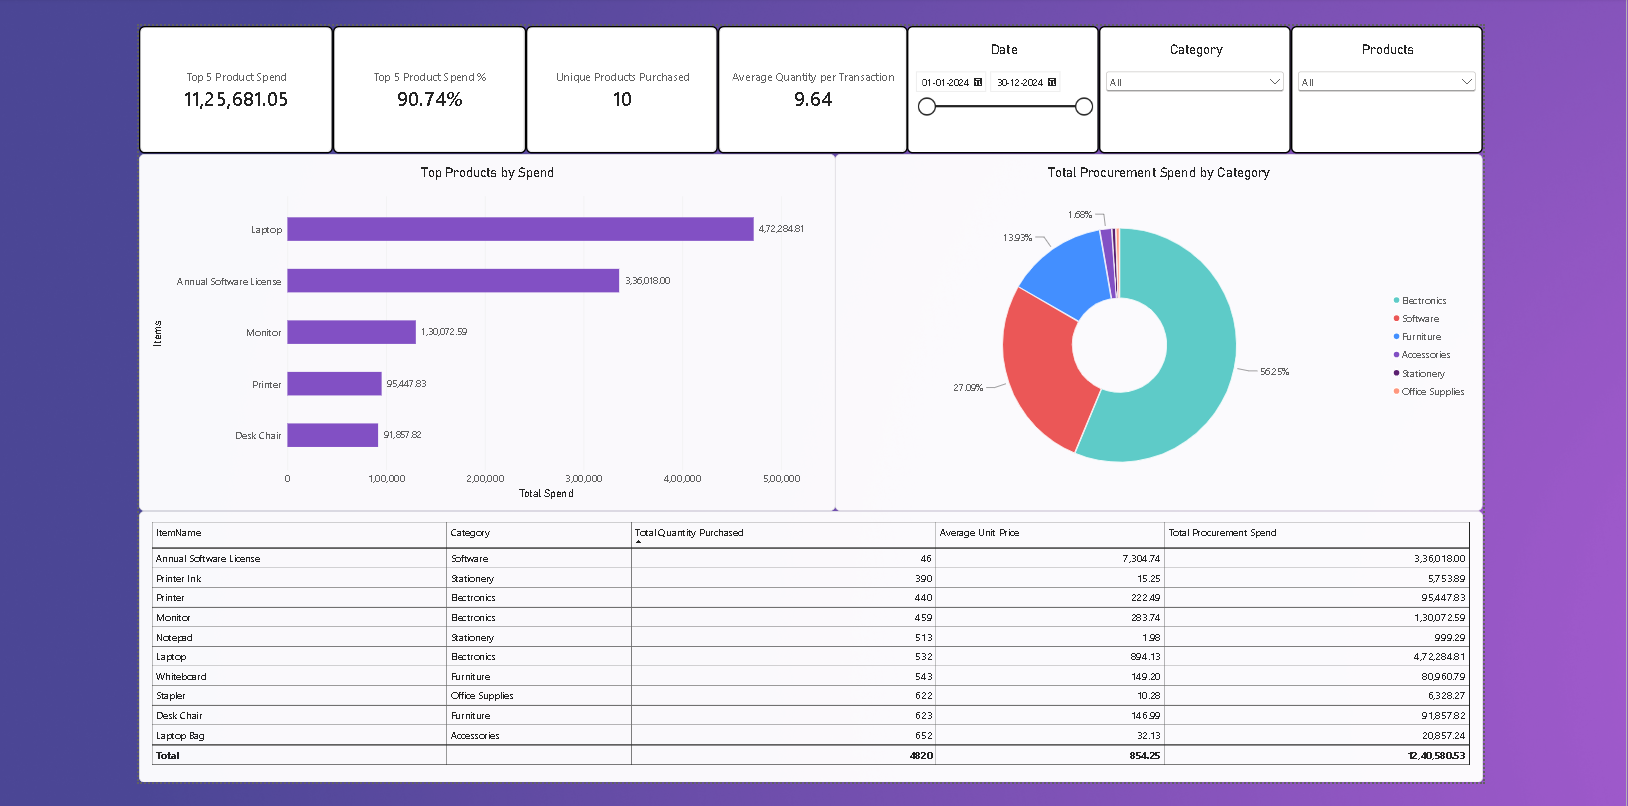

The dashboard page shown, as its layout file describes it:
{"tool":"powerbi","page":{"name":"Product & Spending Analysis","canvas":[1920,1080],"ordinal":2},"visuals":[{"type":"cardVisual","fields":{"Data":["Fact Purchases.Top 5 Product Spend"]},"box":[0,0,277.2,182.2],"z":0},{"type":"cardVisual","fields":{"Data":["Fact Purchases.Average Quantity per Transaction"]},"box":[826.9,0,270.9,182.2],"z":1},{"type":"cardVisual","fields":{"Data":["Fact Purchases.Unique Products Purchased"]},"box":[552.9,0,274.1,182.2],"z":2},{"type":"cardVisual","fields":{"Data":["Fact Purchases.Top 5 Product Spend %"]},"box":[277.2,0,275.6,182.2],"z":5},{"type":"clusteredBarChart","title":"Top Products by Spend","fields":{"Category":["DimItem.ItemName"],"Y":["Fact Purchases.Total Procurement Spend"]},"box":[0,182.2,995,510.1],"z":6},{"type":"donutChart","fields":{"Category":["DimItem.Category"],"Y":["Fact Purchases.Total Procurement Spend"]},"box":[994.9,182.2,925,510.1],"z":7},{"type":"tableEx","fields":{"Values":["DimItem.ItemName","DimItem.Category","Fact Purchases.Total Quantity Purchased","Fact Purchases.Average Unit Price","Fact Purchases.Total Procurement Spend"]},"box":[0,692.3,1920,388.1],"z":8},{"type":"slicer","title":"Date","fields":{"Values":["DimDate.Date"]},"box":[1097.8,0,274.1,182.2],"z":9},{"type":"slicer","title":"Category","fields":{"Values":["DimItem.Category"]},"box":[1371.9,0,274.1,182.2],"z":10},{"type":"slicer","title":"Products","fields":{"Values":["DimItem.ItemName"]},"box":[1645.9,0,274.1,182.2],"z":11}]}

Visuals, with their boxes on the page's 1920x1080 design canvas (x1, y1, x2, y2). These are canvas units, not pixel positions in the 1628x806 screenshot, which may show the page scaled, cropped or inside an application window:
cardVisual - Fact Purchases.Top 5 Product Spend: Rect(0, 0, 277, 182)
cardVisual - Fact Purchases.Average Quantity per Transaction: Rect(827, 0, 1098, 182)
cardVisual - Fact Purchases.Unique Products Purchased: Rect(553, 0, 827, 182)
cardVisual - Fact Purchases.Top 5 Product Spend %: Rect(277, 0, 553, 182)
"Top Products by Spend" clusteredBarChart: Rect(0, 182, 995, 692)
donutChart - DimItem.Category x Fact Purchases.Total Procurement Spend: Rect(995, 182, 1920, 692)
tableEx - DimItem.ItemName x DimItem.Category: Rect(0, 692, 1920, 1080)
"Date" slicer: Rect(1098, 0, 1372, 182)
"Category" slicer: Rect(1372, 0, 1646, 182)
"Products" slicer: Rect(1646, 0, 1920, 182)
